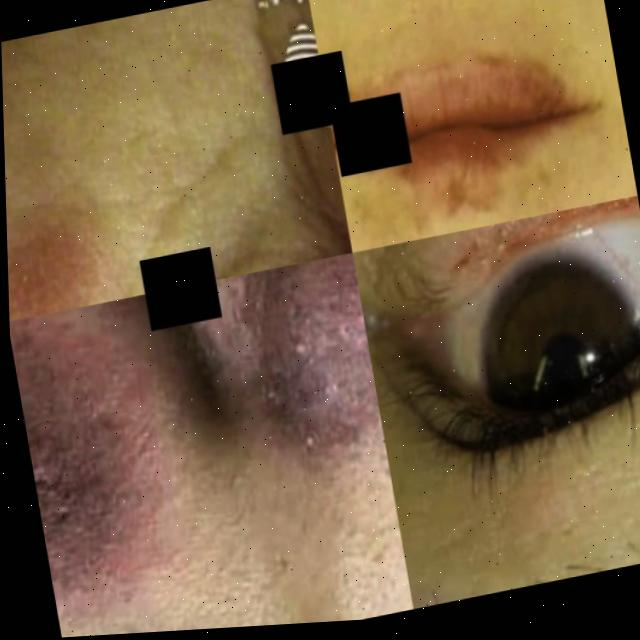lupus-detected: (9, 277, 280, 640), (192, 251, 392, 519), (496, 0, 638, 218), (380, 195, 640, 308), (5, 157, 149, 322)
